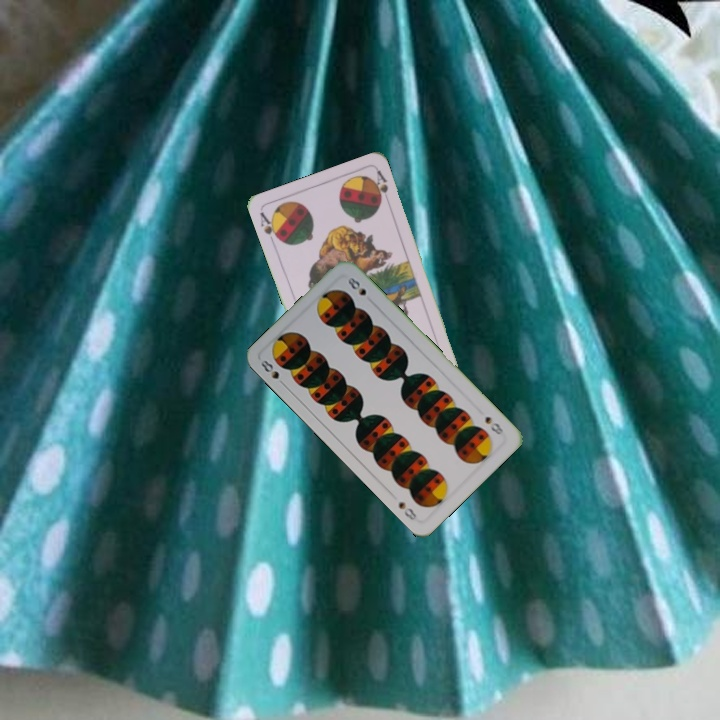S8: (257, 356, 289, 389), (481, 412, 506, 437)
SA: (256, 208, 283, 244)
